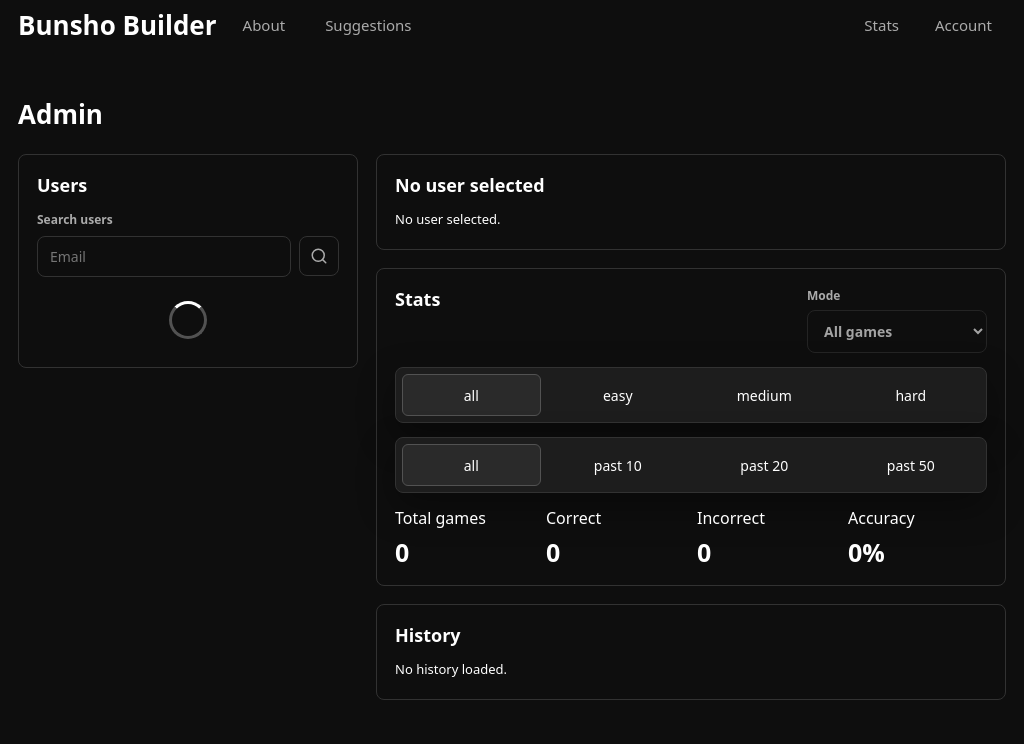
it: opens the direct admin page, searches users, and shows profile stats and history
Check: the heading "Admin" is shown, box [18,96,103,132]
In the search field labelled "Search users": (164, 256) [37,236,291,277], type "tyler"
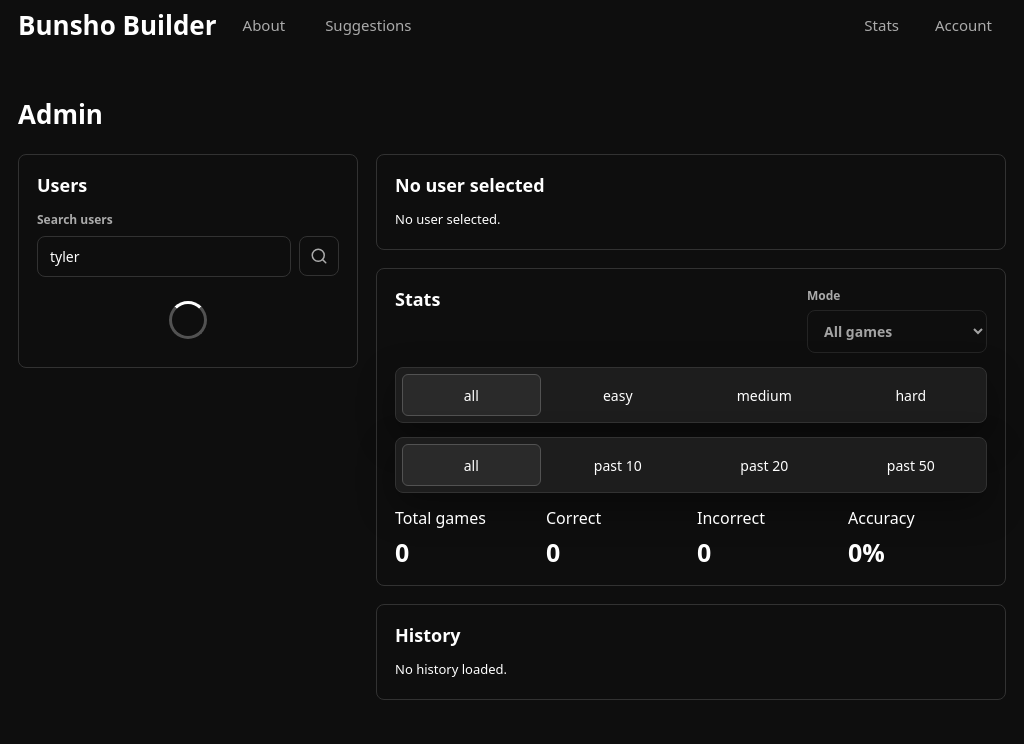
Click the button named "Search": click(319, 256) [299,236,339,276]
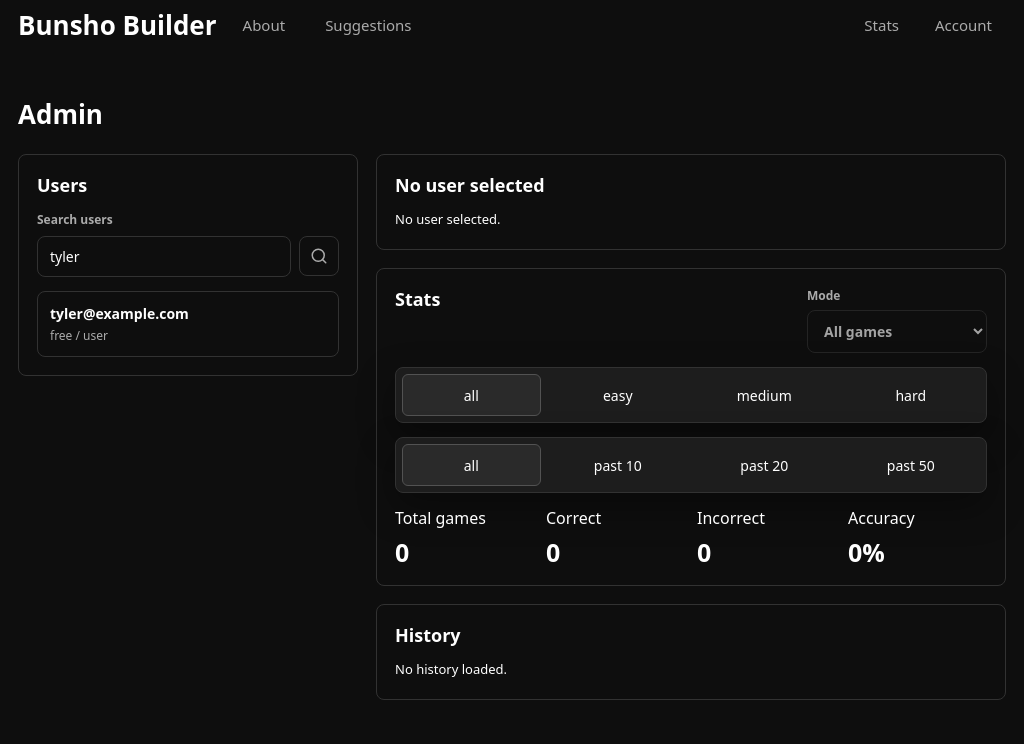
Click the button "tyler@example.com free / user": click(188, 324) [37,291,339,357]
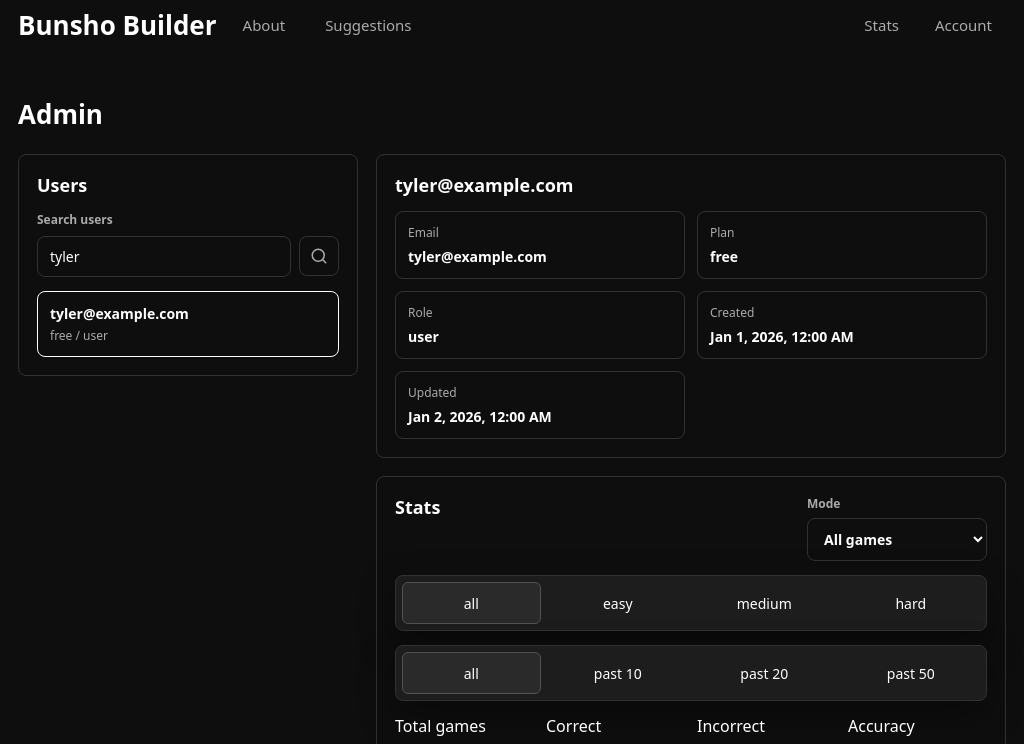
Check: the text "Total games" is shown, box [395,715,486,737]
Check: the heading "tyler@example.com" is shown, box [395,173,574,197]
Select "Conjugate" in the dropdown named "Stats mode": (897, 540) [807,518,987,561]
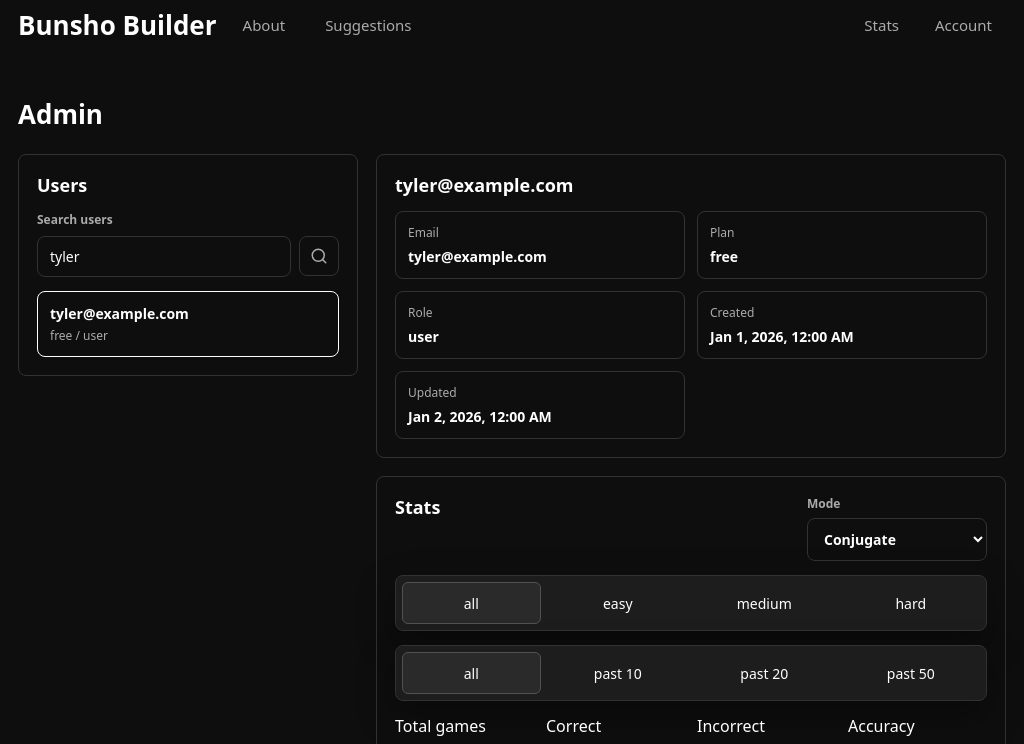
Click the tab "hard": click(911, 603) [842,582,980,624]
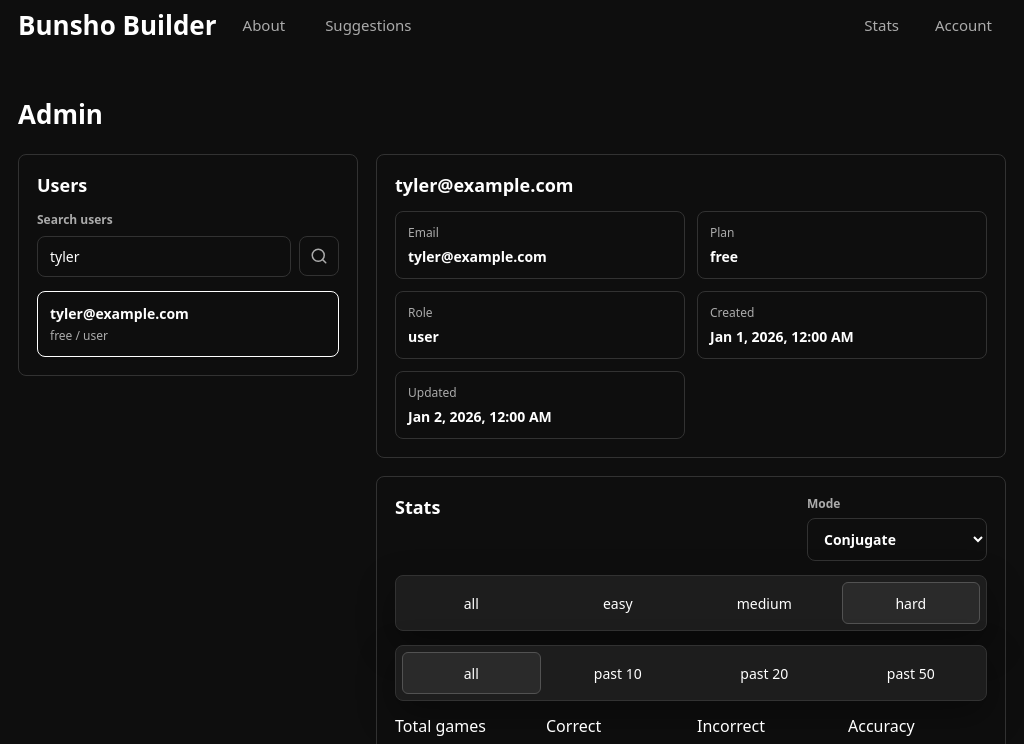
Click the button "past 10": click(618, 673) [548,652,687,694]
(page scrolled)
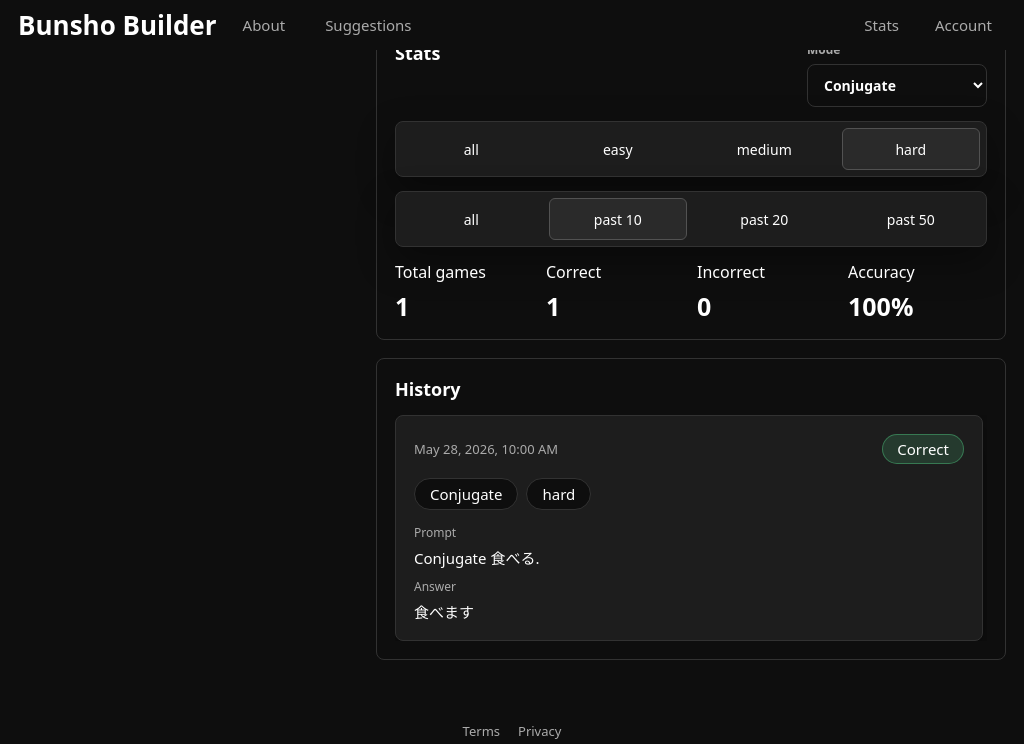
Check: the text "Conjugate 食べる." is shown, box [414,548,539,568]
Check: the text "Correct" in the row of "May 28, 2026, 10:00 AM" is shown, box [897,438,949,458]
